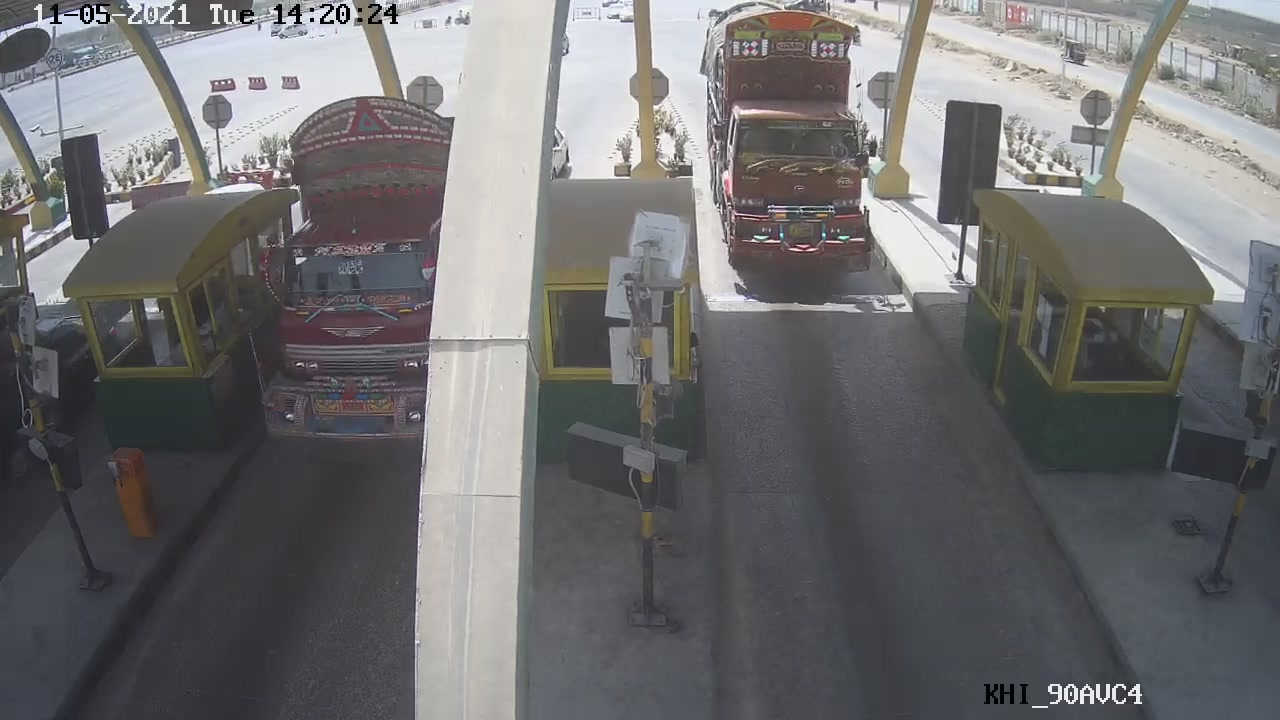F5: (701, 4, 887, 292)
